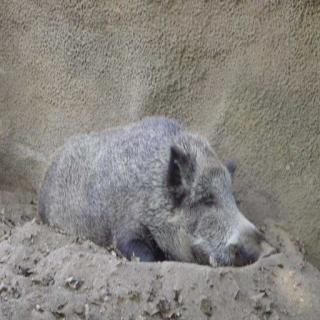Pig: (0, 66, 261, 265)
